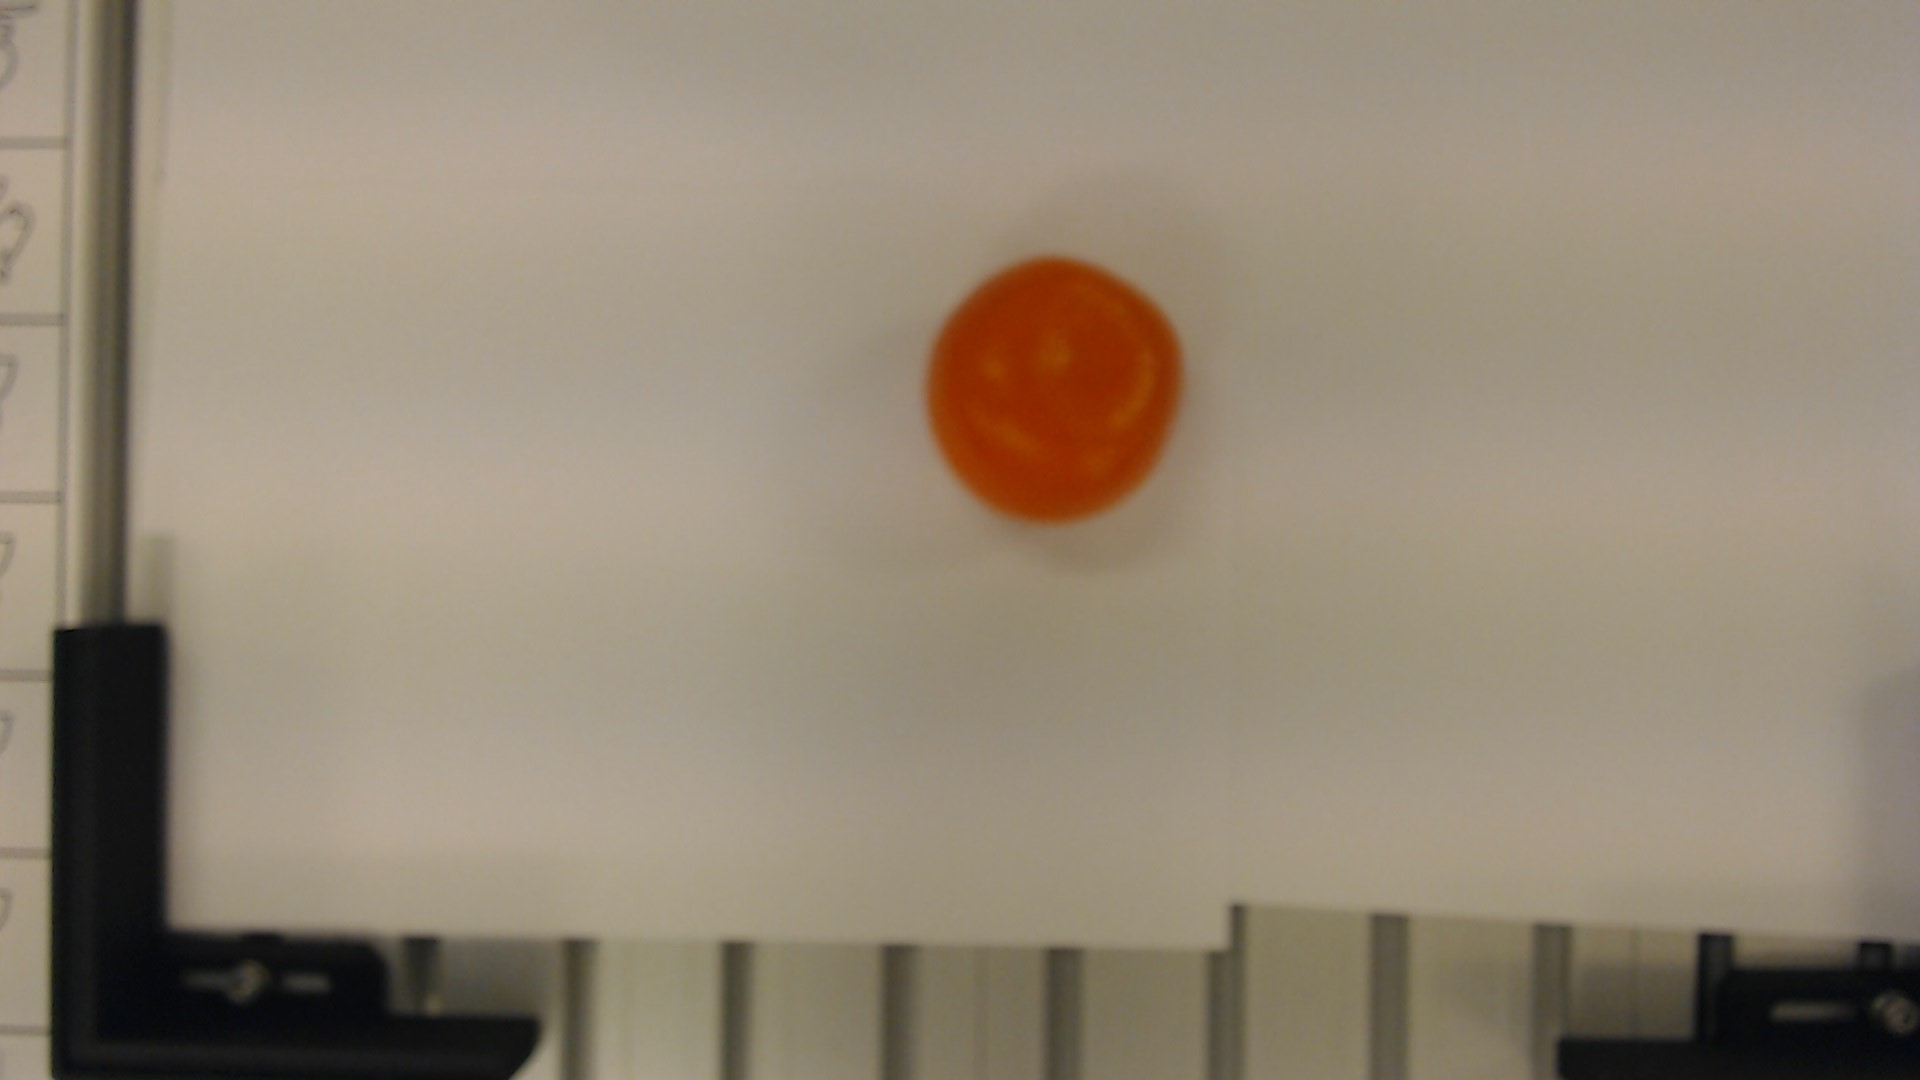Mandarin: (919, 249, 1195, 531)
